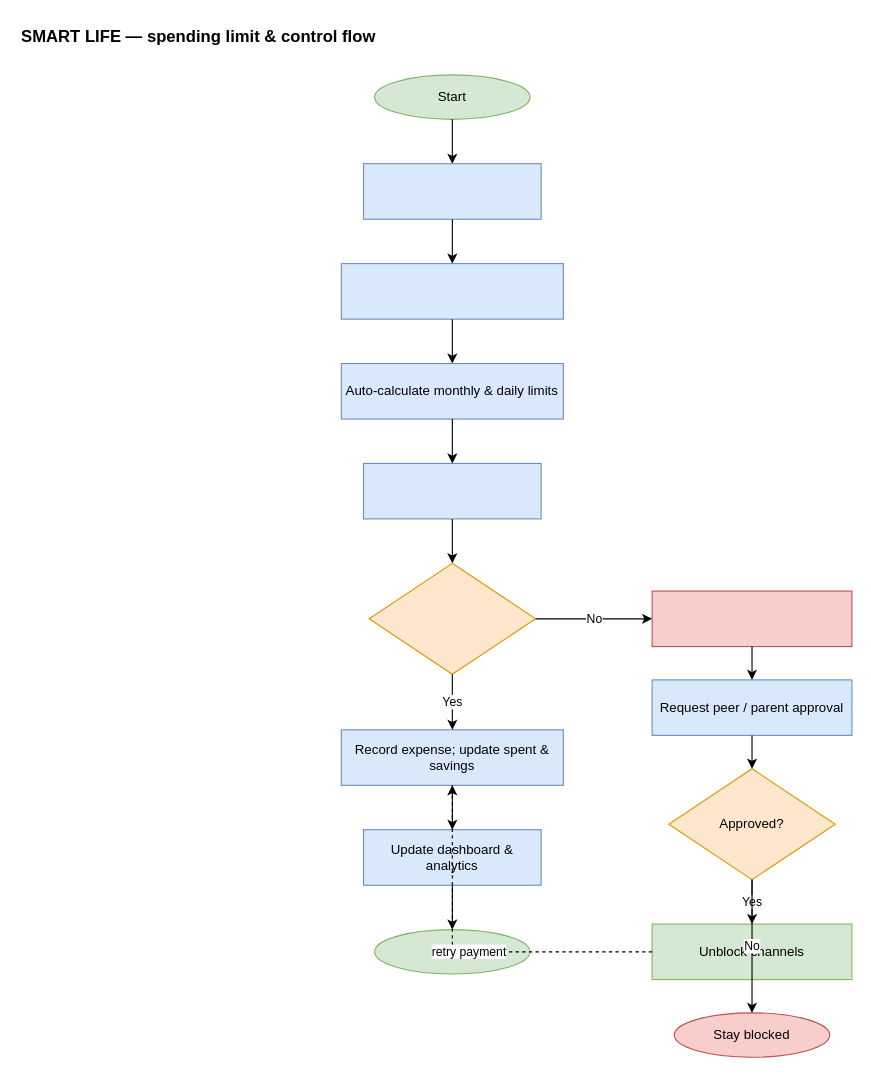
Some shapes in this 871 by 1077 pixel diagram are drawn without their labels. Here are the shapes that lost their labels. From the top down, the box of each, then its label:
(362, 163, 541, 219): Sign up / Log in
(340, 263, 563, 319): Set income, expenses & budget model (60 / 10 / 30)
(362, 462, 541, 519): Make a payment (MoMo / Airtel)
(368, 562, 536, 674): Within daily & monthly limit?
(651, 590, 852, 647): Block all payment channels
